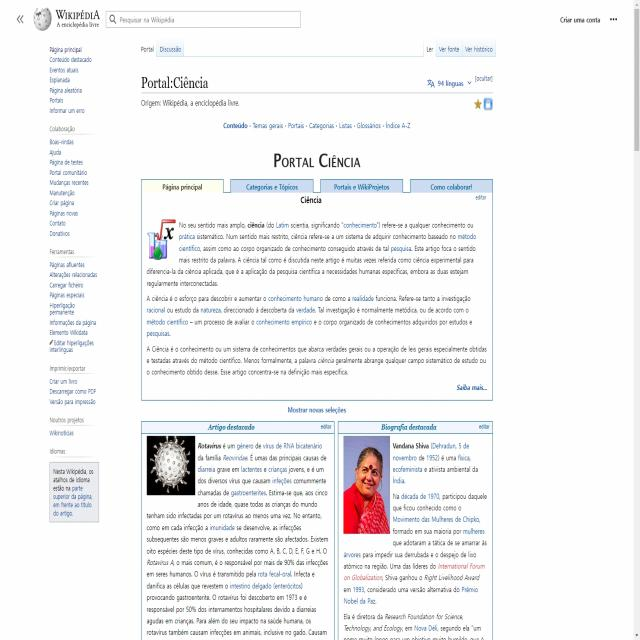search: (104, 7, 304, 30)
side-panel: (38, 40, 121, 640)
